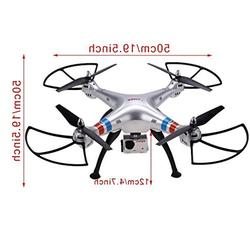drone: (25, 63, 249, 178)
